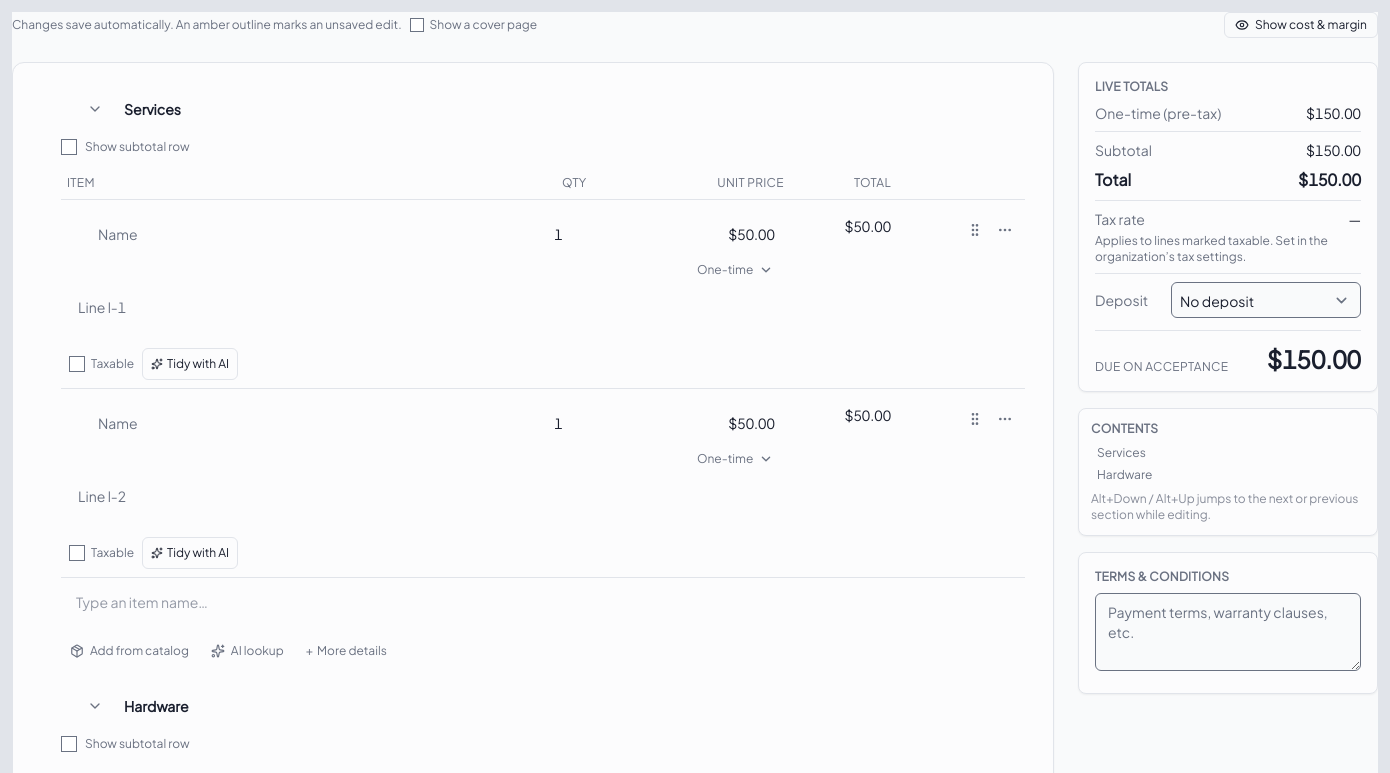
QuoteEditor — move line between pricing panels › lists only the OTHER panels, labeled, in the Move-to menu
Click the button with test id "quote-line-actions-l-1". click: (1005, 230)
box: x1=991 y1=216 x2=1019 y2=244
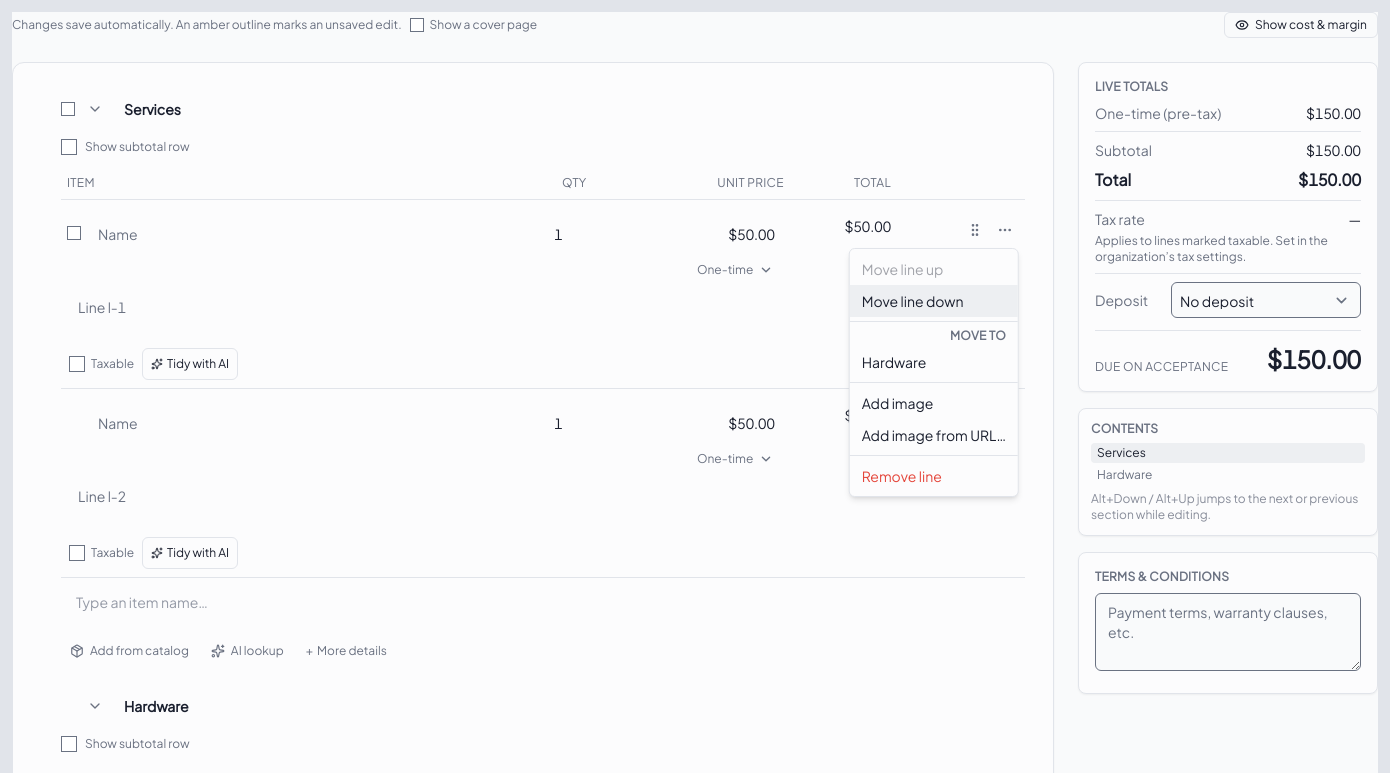
Check: the menu item with test id "quote-line-move-to-l-1-blk-2" reads "Hardware", box x1=850 y1=346 x2=1018 y2=378
